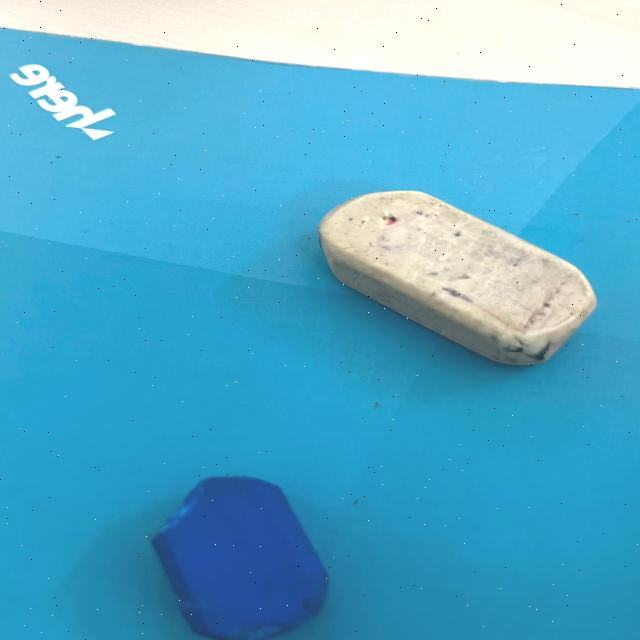eraser: (296, 182, 609, 372), (142, 461, 346, 640)
